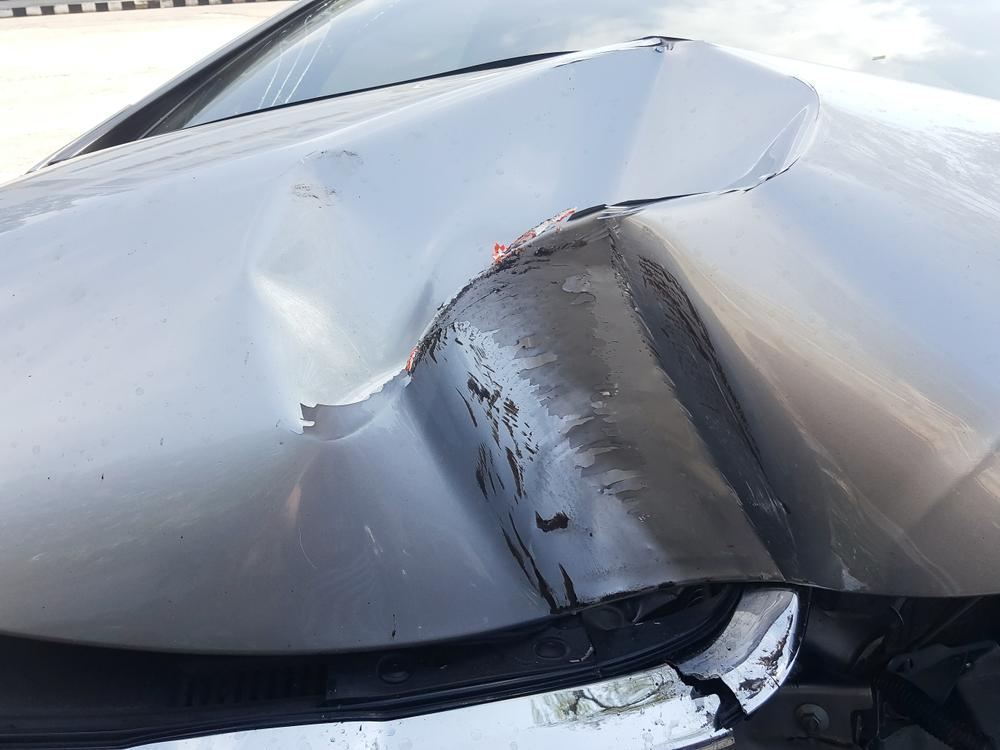crack: (666, 662, 748, 733)
dent: (244, 38, 909, 620)
